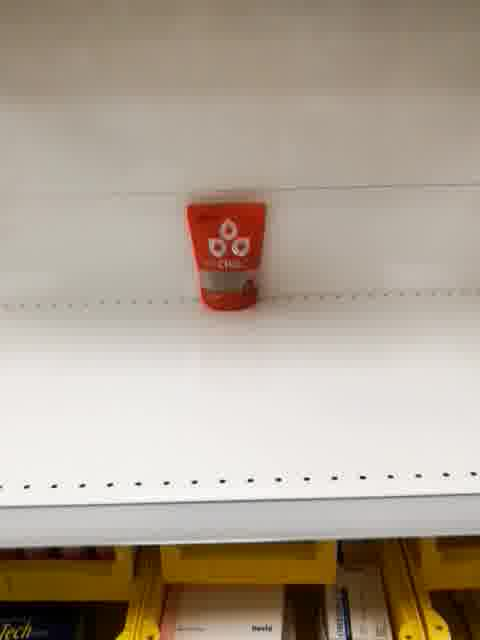whitechia: (184, 198, 268, 314)
